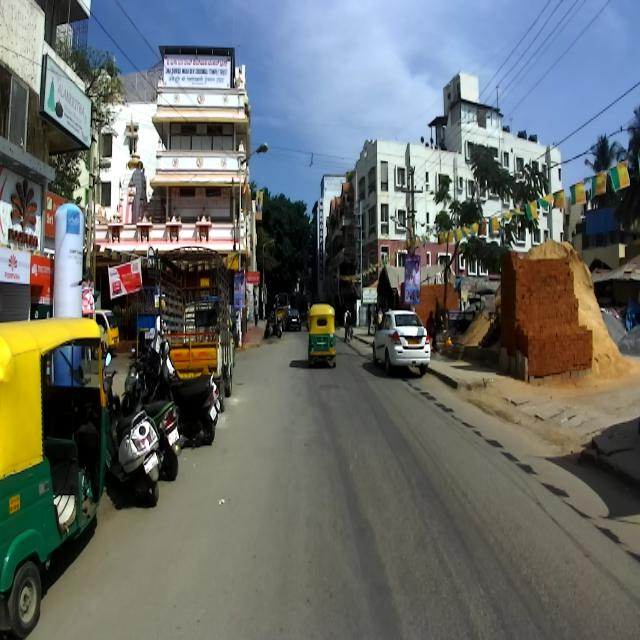auto ahead at: (0, 314, 111, 628), (306, 301, 338, 372)
car ahead at: (372, 306, 434, 379)
motorcycle ahead at: (118, 410, 164, 518)
